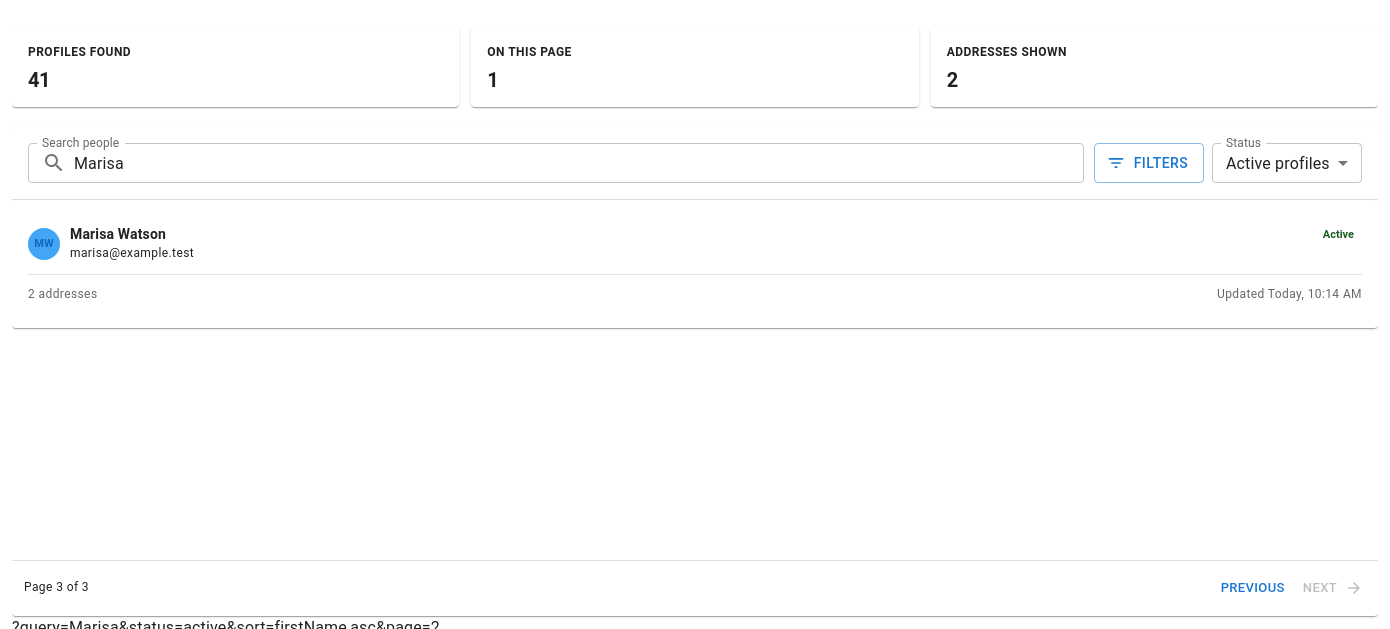
Scenario: UsersPage › writes filter changes back to the directory URL
expect the text "Marisa Watson" is shown: met, box [70, 226, 166, 242]
Click the dropdown named "Status" at (1278, 163), box [1226, 154, 1330, 172]
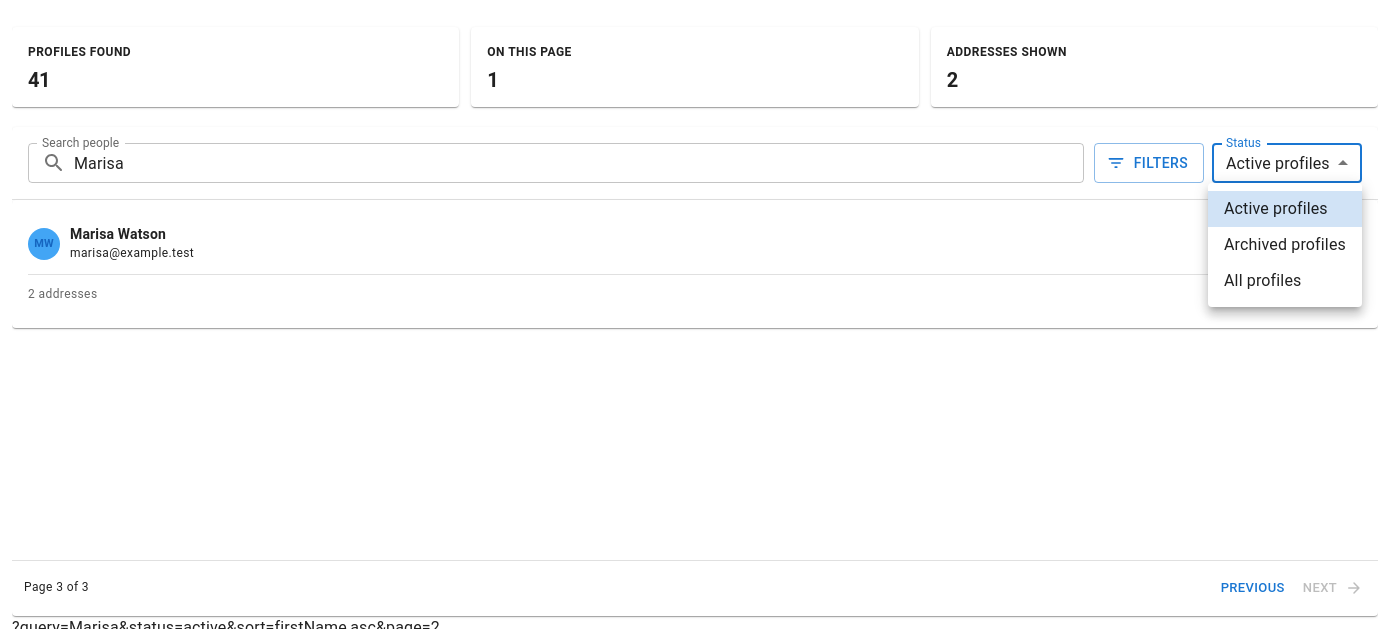
Click the option "Archived profiles" at (1285, 244), box [1224, 235, 1346, 254]
(page scrolled)
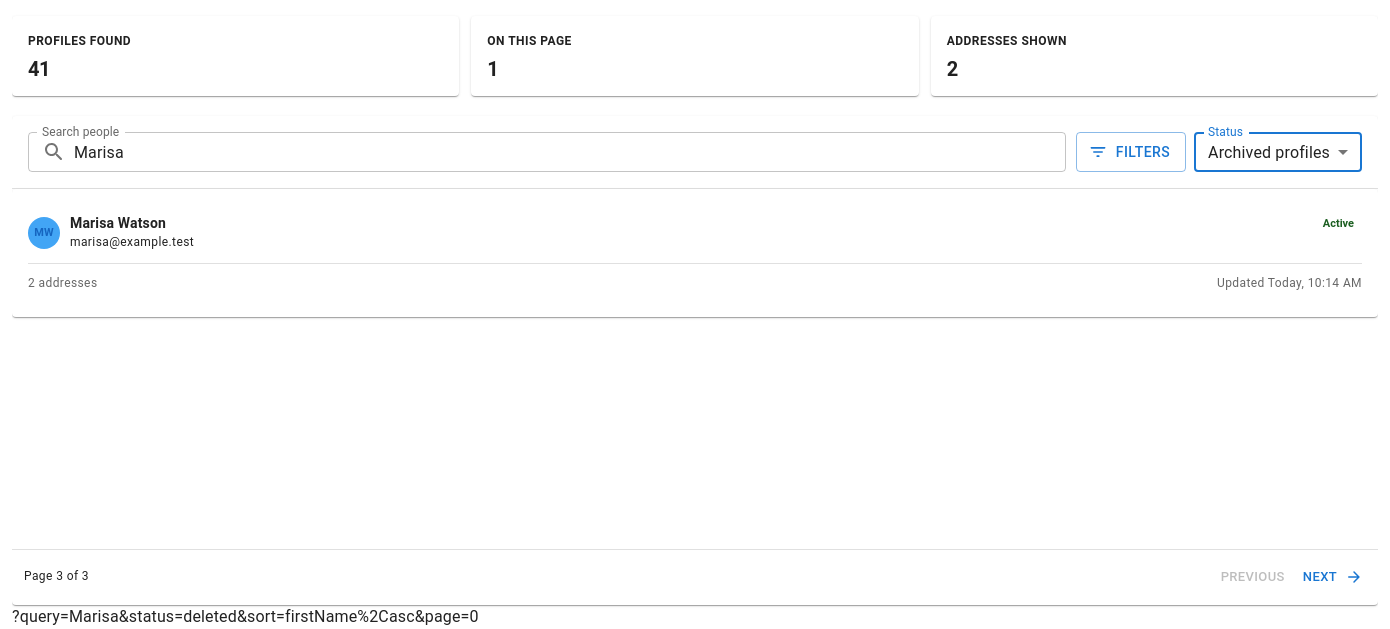
expect the text with test id "location-search" shows "status=deleted": met, box [12, 607, 479, 626]
